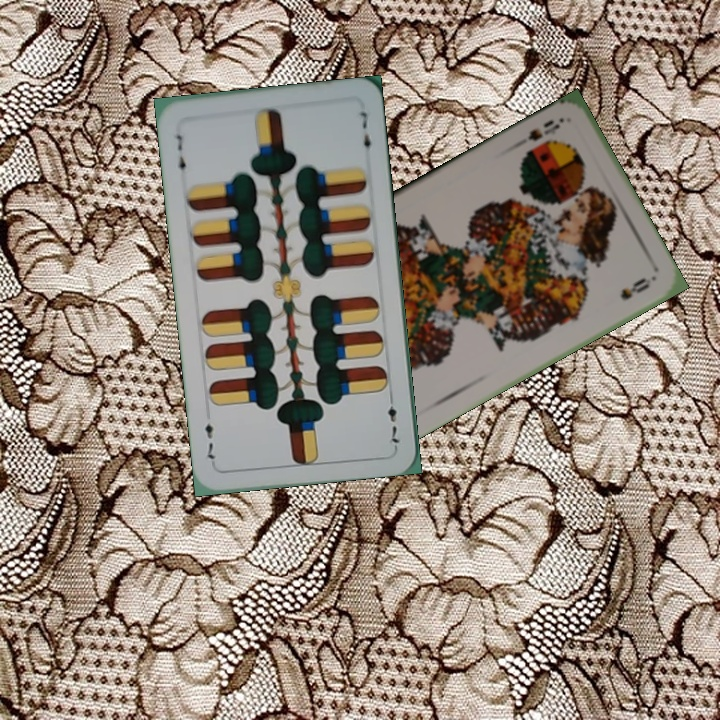E7: (384, 390, 402, 449), (172, 131, 189, 180)
SO: (523, 115, 563, 144)
